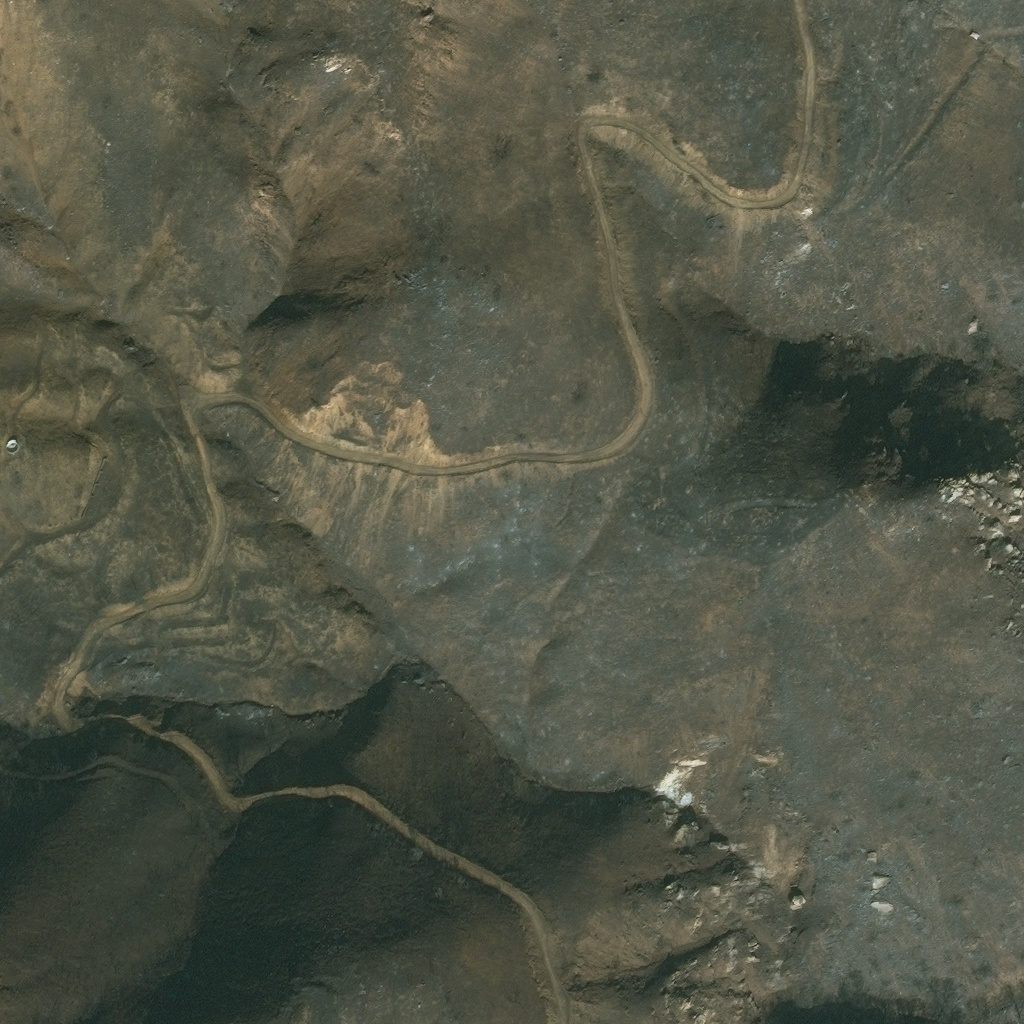2 major-damage: (4, 438, 20, 457)
